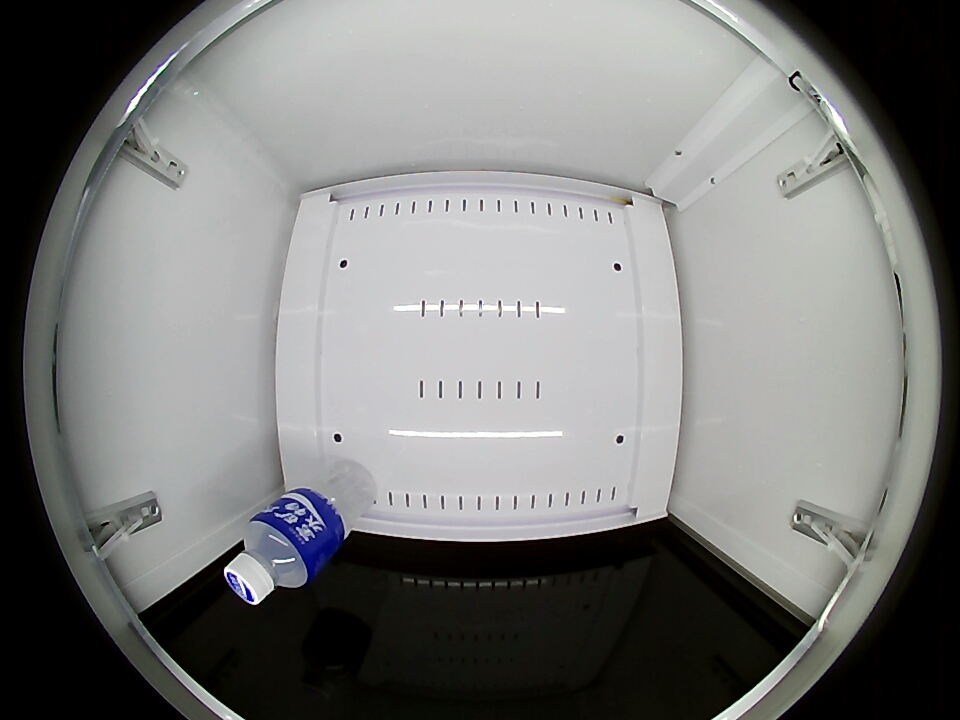baokuangli: (224, 509, 321, 606)
